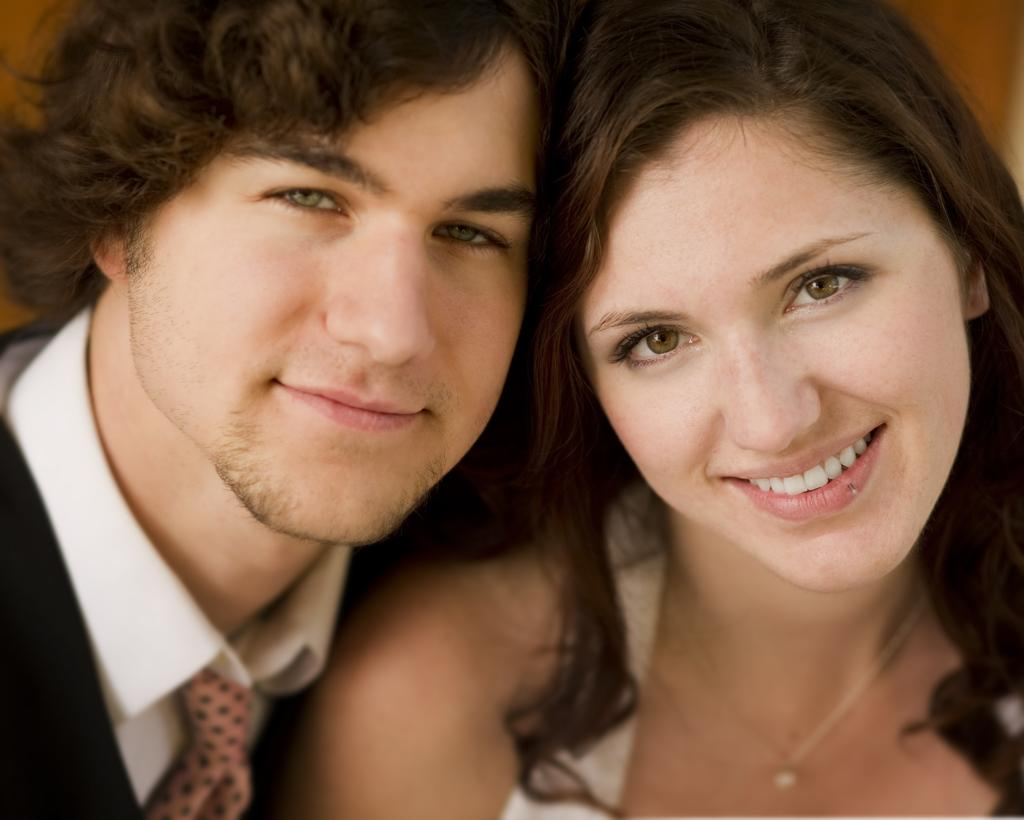face: (580, 130, 972, 590), (152, 74, 534, 542)
